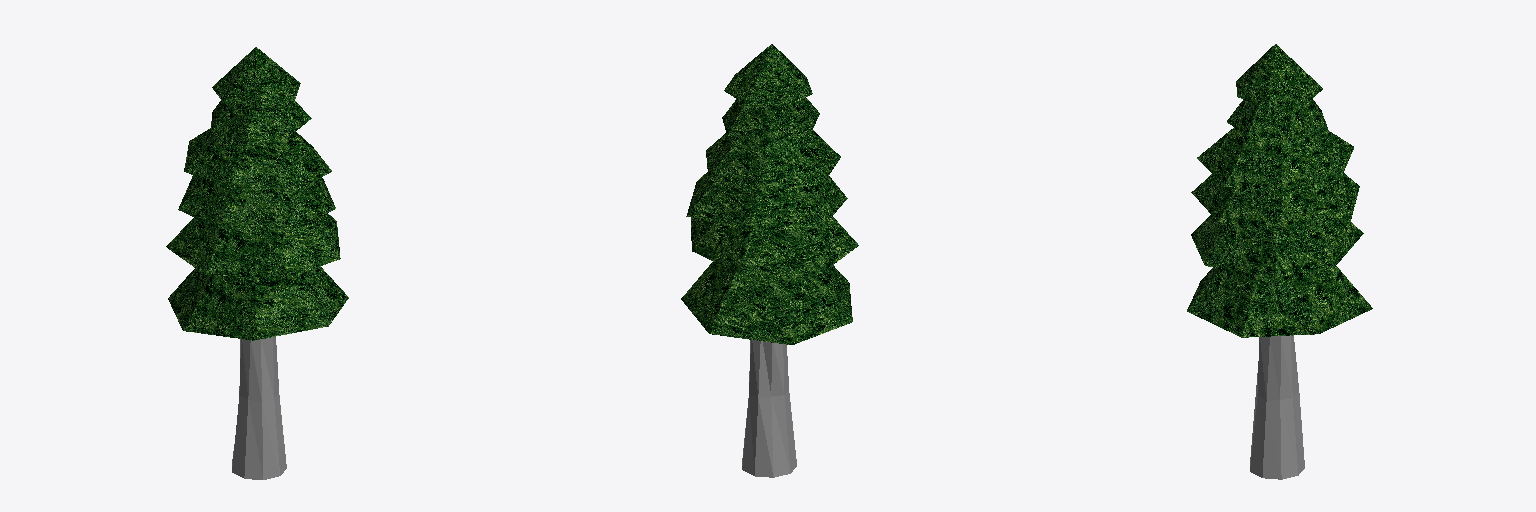
3 views of the same model, side by side, from view 1: azimuth 30°, elevation 25°; view 2: azimuth 150°, elevation 25°; view 3: azimuth 270°, elevation 25° (orthographic).
Parts seen in each view (by area): view 1: leaves_Cone.005, wood_Cylinder; view 2: leaves_Cone.005, wood_Cylinder; view 3: leaves_Cone.005, wood_Cylinder.
Part boxes in pixels (bbox=[...]): leaves_Cone.005: bbox=[166, 47, 348, 340]; wood_Cylinder: bbox=[232, 337, 286, 479]; leaves_Cone.005: bbox=[681, 44, 858, 344]; wood_Cylinder: bbox=[742, 340, 796, 477]; leaves_Cone.005: bbox=[1187, 44, 1372, 337]; wood_Cylinder: bbox=[1250, 335, 1304, 479].
Size of the model in its own units: 1.32 by 3.38 by 1.35.
2 materials, 1 textured.